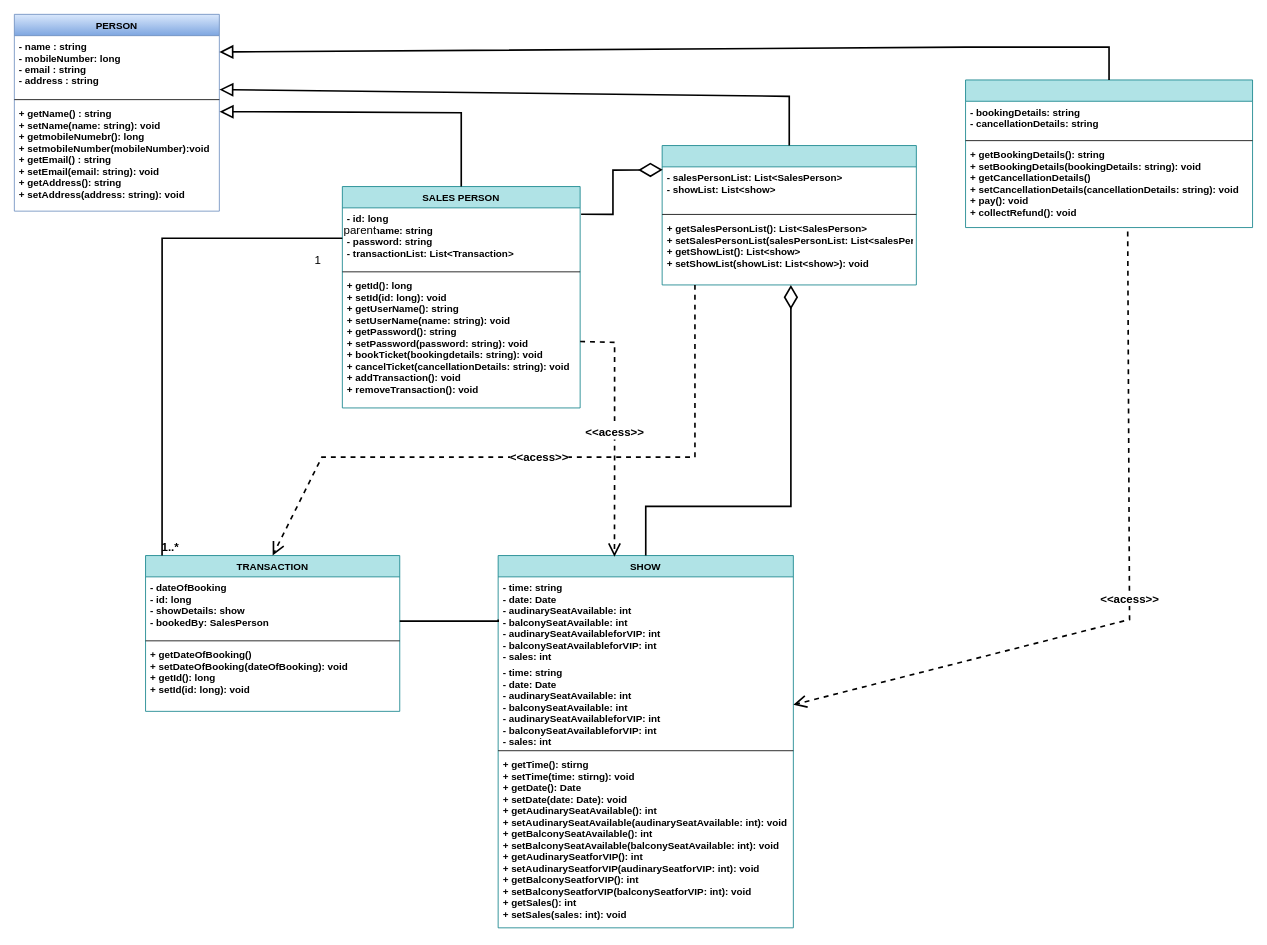
Some shapes in this 1267 by 945 pixel diagram are drawn without their labels. Each missing label, with the box of its shape:
SHOW MANAGER: (661, 145, 916, 285)
SPECTATOR: (965, 79, 1253, 228)
